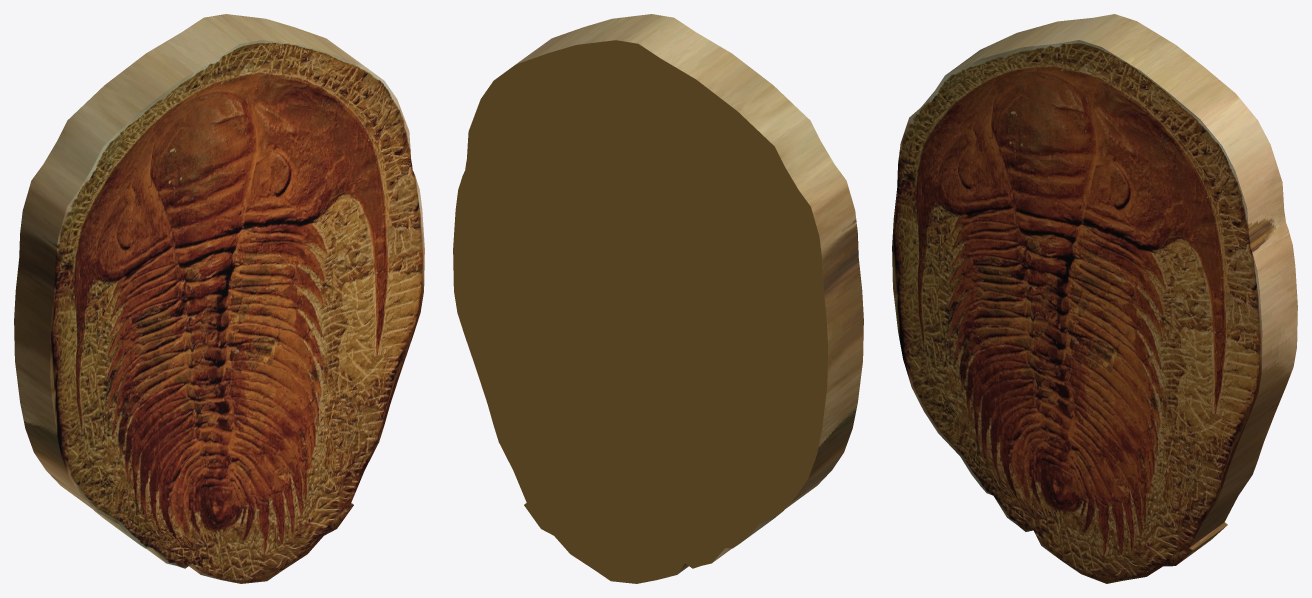
The model's file is Paradoxides.fbx.
The picture shows the model from 3 angles, left to right: view 1: azimuth 30°, elevation 25°; view 2: azimuth 150°, elevation 25°; view 3: azimuth 330°, elevation 25°; orthographic projection.
Visible parts, largest first — view 1: root; view 2: root; view 3: root.
Part boxes in pixels (x1,y1,x2,y2): root: [14, 14, 424, 583]; root: [453, 14, 863, 583]; root: [892, 14, 1297, 583].
Size of the model in its own units: 0.6059 by 0.8399 by 0.1.
Materials: 1 (1 with a texture image).
